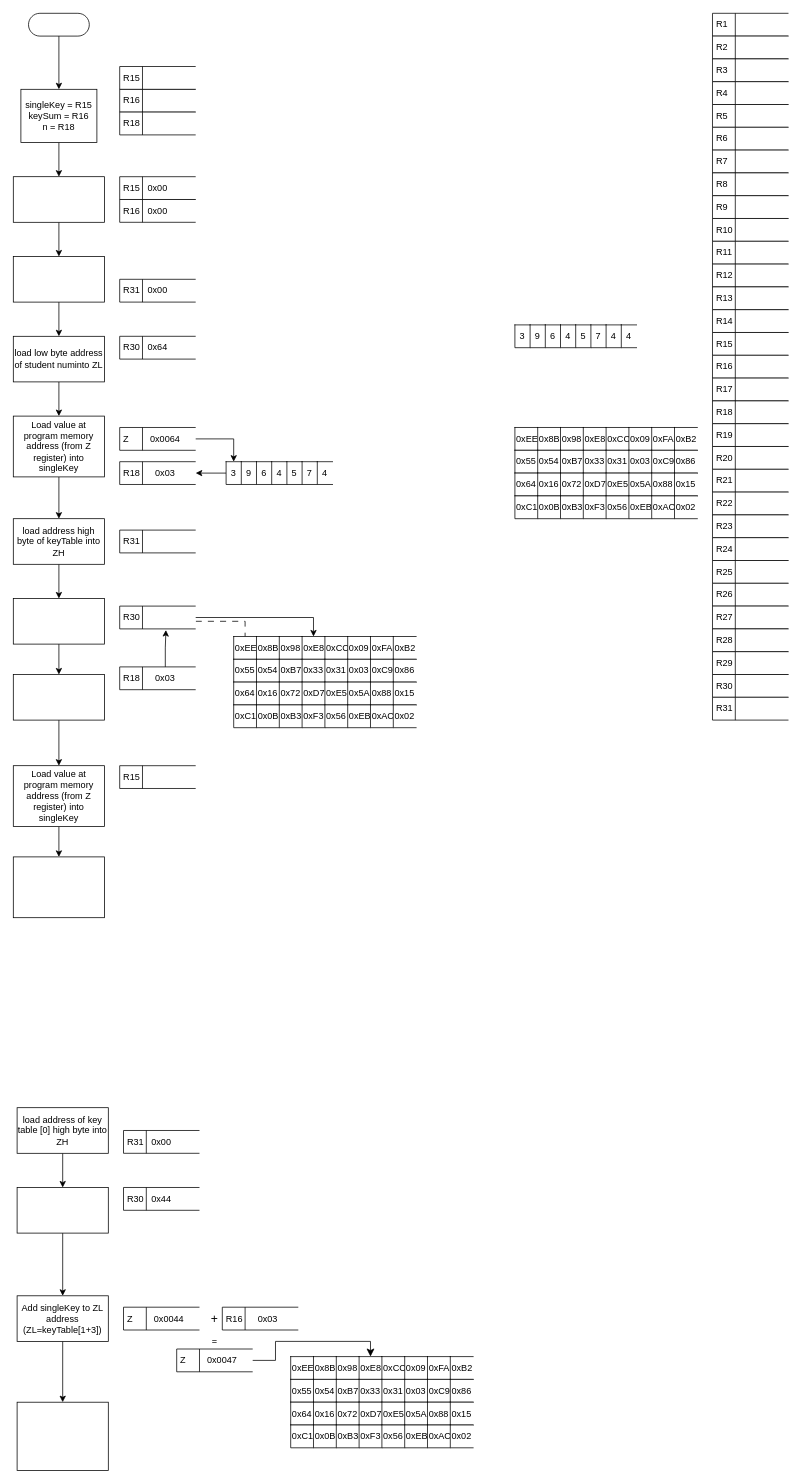
Image size: 802x1484. Some labels were removed from this diagram. Here are the shapes that lost their labels. From the top down, the box of each, then its label:
(28, 13, 89, 36): start
(13, 176, 104, 222): LDI R16 0x00 LDI i=0
(13, 256, 104, 302): load address of student num high byte into ZH
(13, 598, 104, 644): load address low byte of keyTable into ZL
(13, 674, 104, 720): add R16 to ZL
(13, 856, 104, 918): add
(16, 1187, 108, 1233): load address of key table [0] low byte into ZL
(16, 1401, 108, 1471): Load value from program memory address@Z into singleKey
